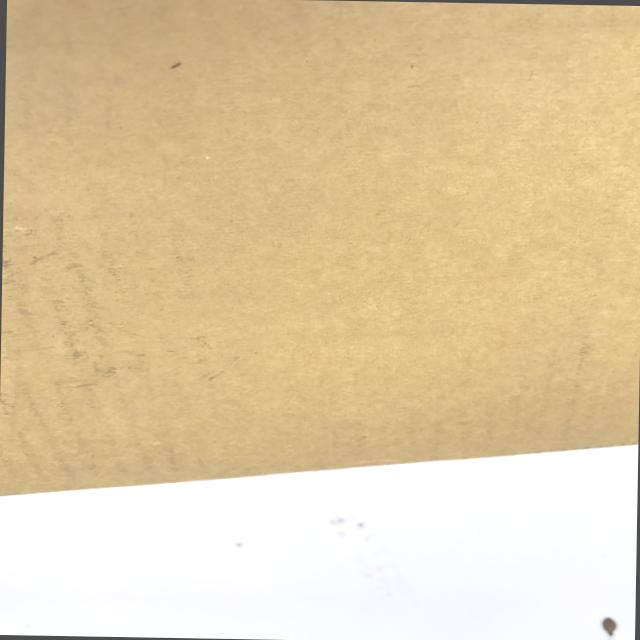Cardboard: (0, 0, 640, 522)
